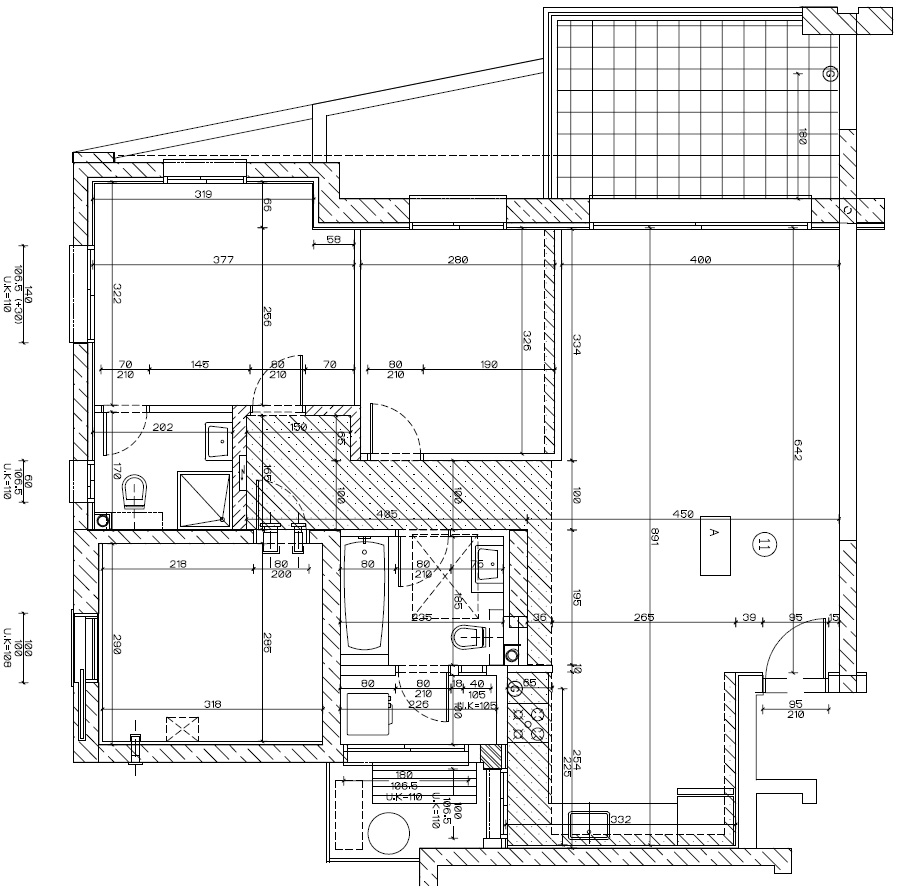door: (763, 610, 836, 667), (366, 395, 426, 446), (251, 350, 311, 393), (98, 420, 158, 460), (393, 546, 446, 588)
window: (409, 218, 508, 233), (85, 245, 99, 342), (164, 173, 247, 188)
